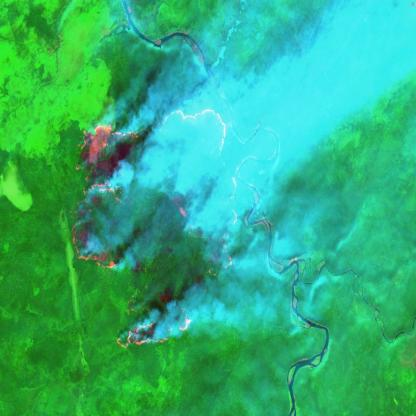fire: (66, 100, 237, 352)
